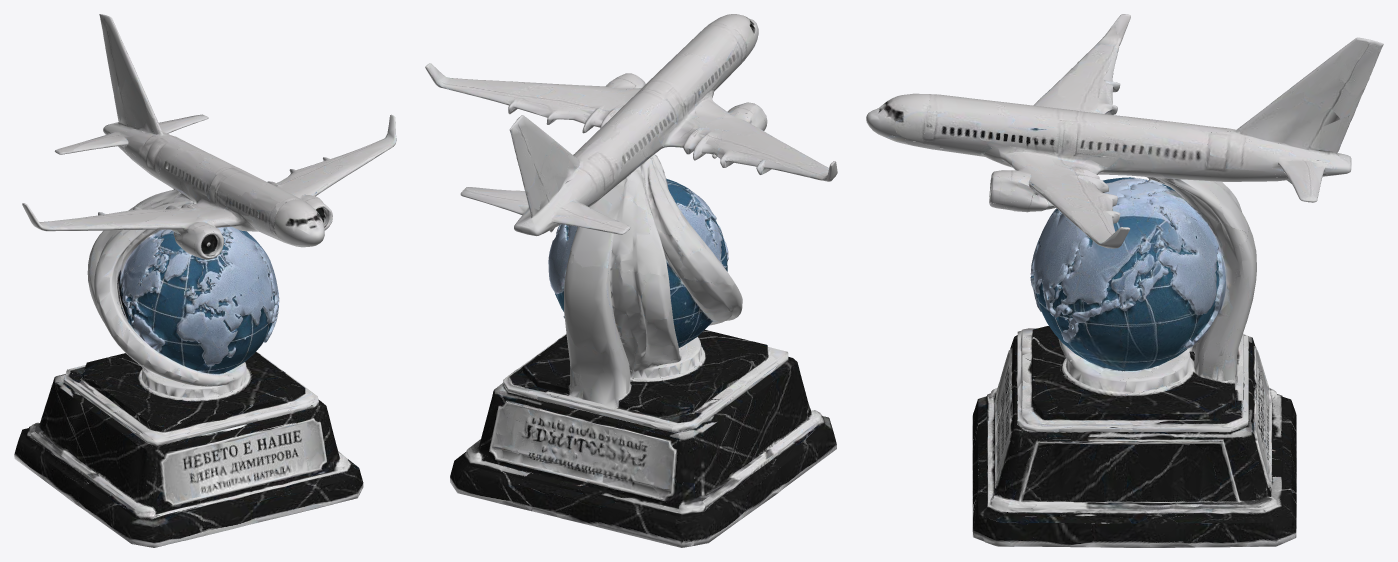
File: award-elena.glb
The picture shows the model from 3 angles, left to right: view 1: azimuth 30°, elevation 25°; view 2: azimuth 150°, elevation 25°; view 3: azimuth 270°, elevation 25°; orthographic projection. The views are drawn at different scales.
Parts seen in each view (by area): view 1: Mesh_0; view 2: Mesh_0; view 3: Mesh_0.
Boxes of the visible parts, box(x1,y1,x2,y2) form: Mesh_0: box(14, 14, 396, 547); Mesh_0: box(425, 14, 837, 547); Mesh_0: box(866, 14, 1383, 547).
Size of the model in its own units: 1.85 by 1.83 by 1.9.
Materials: 1 (1 with a texture image).
